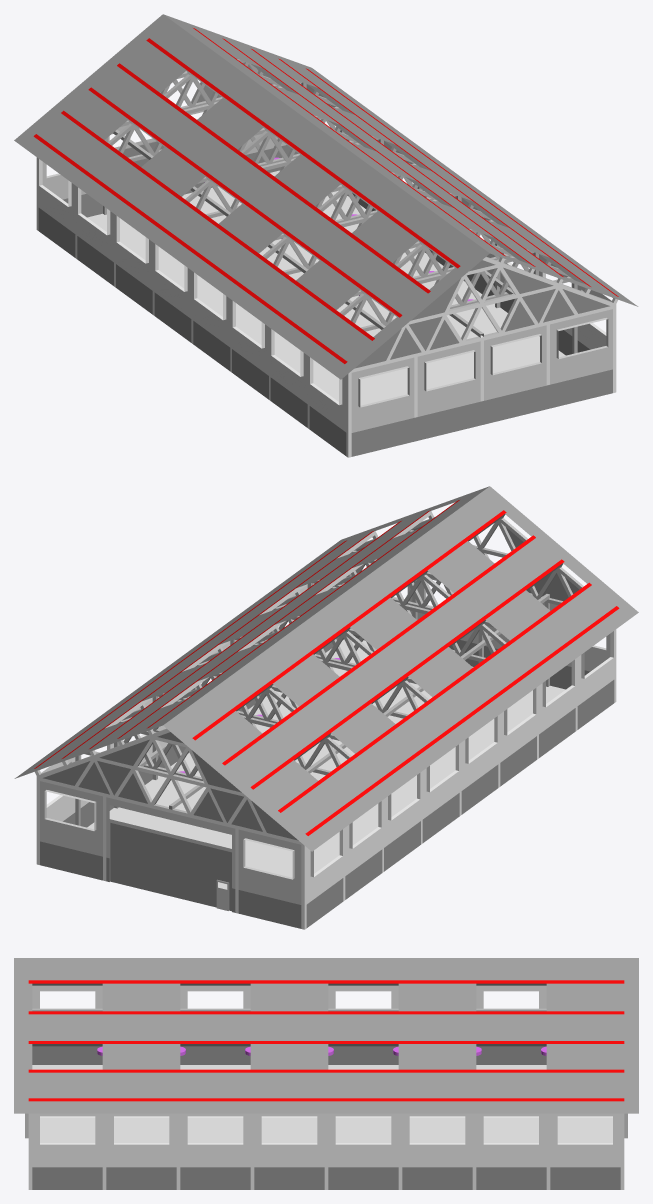
The picture shows the model from 3 angles, top to bottom: view 1: azimuth 30°, elevation 25°; view 2: azimuth 150°, elevation 25°; view 3: azimuth 270°, elevation 25°; orthographic projection. The views are drawn at different scales.
Visible parts, largest first — view 1: imagetostl_mesh; view 2: imagetostl_mesh; view 3: imagetostl_mesh.
Boxes of the visible parts, x1,y1,x2,y2 form: imagetostl_mesh: [14, 14, 638, 457]; imagetostl_mesh: [14, 486, 638, 929]; imagetostl_mesh: [14, 958, 638, 1189].
Bounding box in the file's own units: 87528 × 49762 × 166339.
